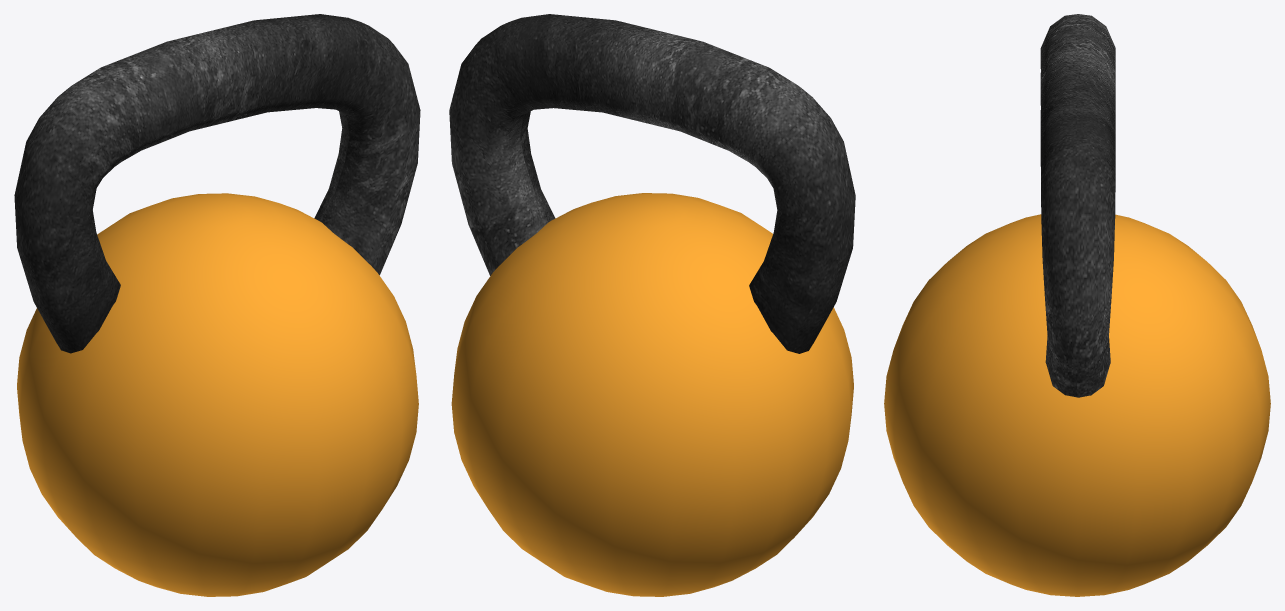
Rendered from kettle ball.fbx.
3 views of the same model, side by side, from view 1: azimuth 30°, elevation 25°; view 2: azimuth 150°, elevation 25°; view 3: azimuth 270°, elevation 25° (orthographic). The views are drawn at different scales.
Visible parts, largest first — view 1: pSphere1, ball5; view 2: pSphere1, ball5; view 3: pSphere1, ball5.
Part boxes in pixels (left/top/right/bottom): pSphere1: left=17, top=193, right=418, bottom=596; ball5: left=14, top=14, right=420, bottom=353; pSphere1: left=451, top=193, right=853, bottom=596; ball5: left=449, top=14, right=855, bottom=353; pSphere1: left=884, top=214, right=1270, bottom=596; ball5: left=1040, top=14, right=1115, bottom=397.
Size of the model in its own units: 2.25 by 2.97 by 2.
2 materials, 2 textured.
